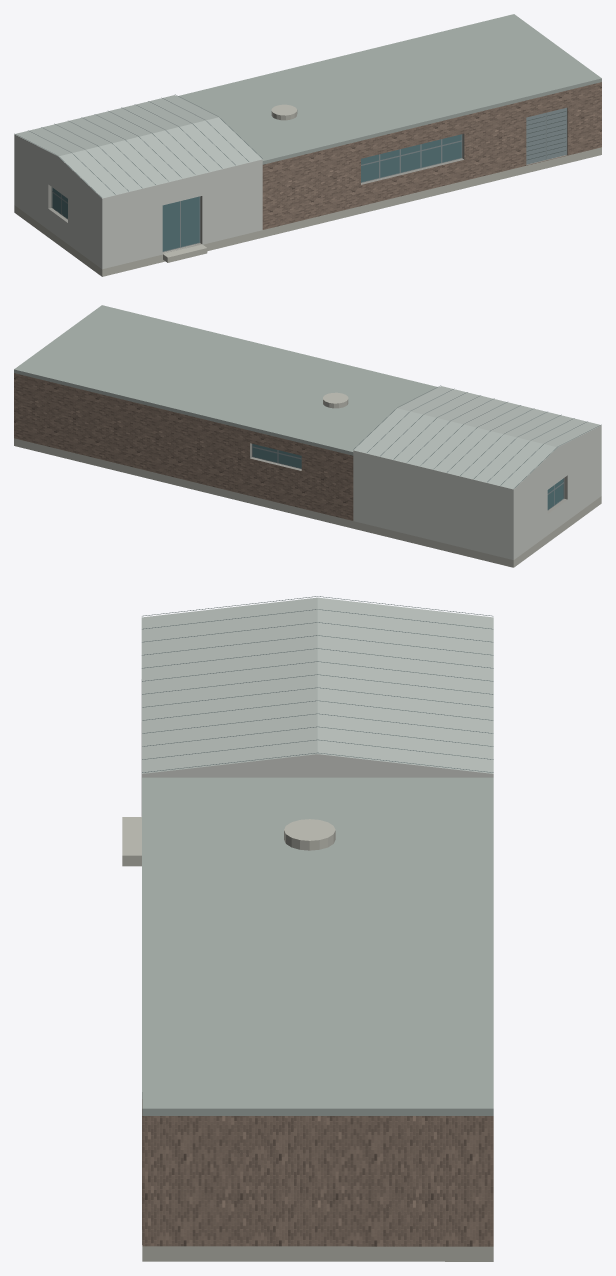
The picture shows the model from 3 angles, top to bottom: view 1: azimuth 30°, elevation 25°; view 2: azimuth 150°, elevation 25°; view 3: azimuth 270°, elevation 25°; orthographic projection. The views are drawn at different scales.
Visible parts, largest first — view 1: lakeside-annex-2__lowEastRoof, lakeside-annex-2__lowEastService_face2, lakeside-annex-2__paleWestRoof, lakeside-annex-2__paleWestEntry_face2, lakeside-annex-2__paleWestEntry_face3, lakeside-annex-2__lowEastServiceBase, lakeside-annex-2__lowEastService_face2_glass, lakeside-annex-2__lowEastService_face2_service, lakeside-annex-2__paleWestEntry_face2_entry, lakeside-annex-2__paleWestEntryBase, lakeside-annex-2__paleWestRoofSeams, lakeside-annex-2__frame (+5 smaller); view 2: lakeside-annex-2__lowEastRoof, lakeside-annex-2__lowEastService_face0, lakeside-annex-2__paleWestRoof, lakeside-annex-2__paleWestEntry_face0, lakeside-annex-2__paleWestEntry_face3, lakeside-annex-2__lowEastServiceBase, lakeside-annex-2__paleWestEntryBase, lakeside-annex-2__paleWestRoofSeams, lakeside-annex-2__lowEastService_face0_glass, lakeside-annex-2__paleWestRoofEnd, lakeside-annex-2__aerialLowRoofCap; view 3: lakeside-annex-2__lowEastRoof, lakeside-annex-2__paleWestRoof, lakeside-annex-2__lowEastService_face1, lakeside-annex-2__lowEastServiceBase, lakeside-annex-2__paleWestRoofSeams, lakeside-annex-2__paleWestRoofEnd, lakeside-annex-2__aerialLowRoofCap, lakeside-annex-2__paleWestEntry_face1, lakeside-annex-2__entranceThreshold_0.
Part boxes in pixels (left/top/right/bottom): lakeside-annex-2__lowEastRoof: left=177, top=14, right=601, bottom=164; lakeside-annex-2__lowEastService_face2: left=262, top=82, right=601, bottom=229; lakeside-annex-2__paleWestRoof: left=14, top=95, right=262, bottom=198; lakeside-annex-2__paleWestEntry_face2: left=102, top=159, right=262, bottom=269; lakeside-annex-2__paleWestEntry_face3: left=14, top=134, right=102, bottom=268; lakeside-annex-2__lowEastServiceBase: left=262, top=147, right=601, bottom=237; lakeside-annex-2__lowEastService_face2_glass: left=361, top=134, right=461, bottom=182; lakeside-annex-2__lowEastService_face2_service: left=526, top=108, right=566, bottom=163; lakeside-annex-2__paleWestEntry_face2_entry: left=162, top=196, right=199, bottom=251; lakeside-annex-2__paleWestEntryBase: left=14, top=205, right=262, bottom=276; lakeside-annex-2__paleWestRoofSeams: left=14, top=94, right=262, bottom=197; lakeside-annex-2__frame: left=51, top=107, right=566, bottom=251; lakeside-annex-2__lowEastRoof: left=14, top=305, right=438, bottom=455; lakeside-annex-2__lowEastService_face0: left=14, top=373, right=353, bottom=520; lakeside-annex-2__paleWestRoof: left=353, top=386, right=601, bottom=489; lakeside-annex-2__paleWestEntry_face0: left=353, top=450, right=513, bottom=559; lakeside-annex-2__paleWestEntry_face3: left=513, top=425, right=601, bottom=559; lakeside-annex-2__lowEastServiceBase: left=14, top=438, right=353, bottom=528; lakeside-annex-2__paleWestEntryBase: left=353, top=496, right=601, bottom=567; lakeside-annex-2__paleWestRoofSeams: left=353, top=385, right=601, bottom=488; lakeside-annex-2__lowEastService_face0_glass: left=252, top=444, right=301, bottom=468; lakeside-annex-2__paleWestRoofEnd: left=515, top=425, right=600, bottom=488; lakeside-annex-2__aerialLowRoofCap: left=323, top=392, right=348, bottom=408; lakeside-annex-2__lowEastRoof: left=142, top=777, right=493, bottom=1115; lakeside-annex-2__paleWestRoof: left=141, top=597, right=493, bottom=773; lakeside-annex-2__lowEastService_face1: left=142, top=1116, right=493, bottom=1246; lakeside-annex-2__lowEastServiceBase: left=142, top=1230, right=493, bottom=1261; lakeside-annex-2__paleWestRoofSeams: left=141, top=596, right=493, bottom=772; lakeside-annex-2__paleWestRoofEnd: left=143, top=754, right=491, bottom=773; lakeside-annex-2__aerialLowRoofCap: left=284, top=819, right=335, bottom=850; lakeside-annex-2__paleWestEntry_face1: left=142, top=774, right=493, bottom=777; lakeside-annex-2__entranceThreshold_0: left=122, top=817, right=141, bottom=866.
Size of the model in its own units: 29.06 by 4.93 by 9.35.
10 materials, 1 textured.
